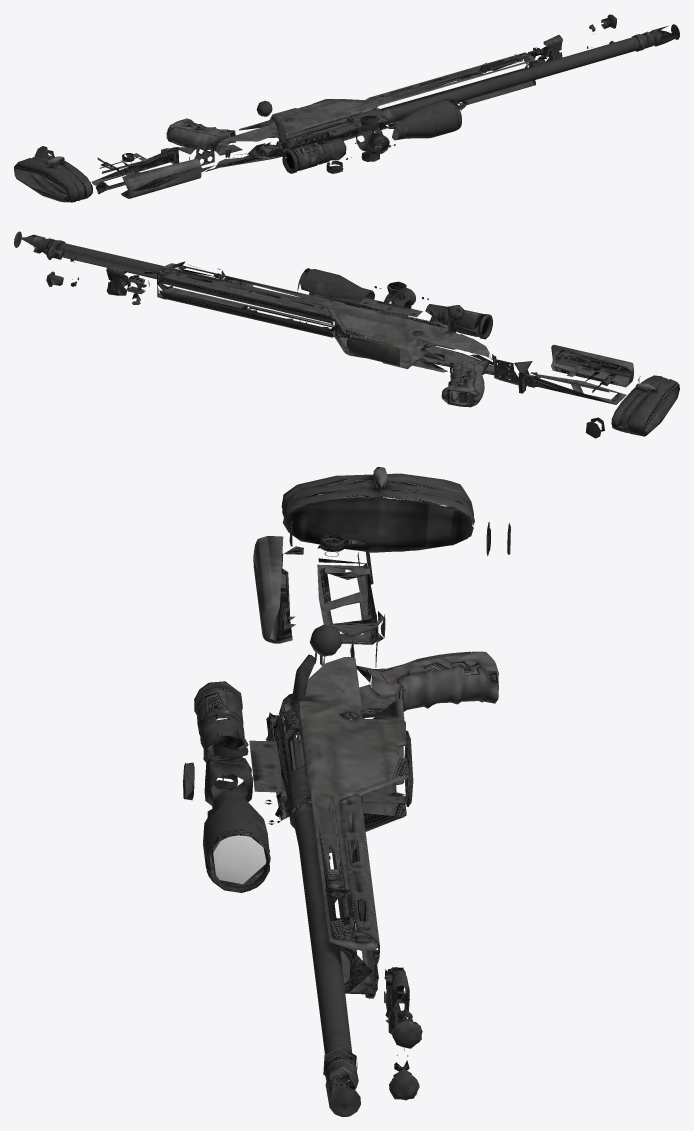
Rendered from p_scout.glb.
3 views of the same model, one above another, from view 1: azimuth 30°, elevation 25°; view 2: azimuth 150°, elevation 25°; view 3: azimuth 270°, elevation 25° (orthographic). The views are drawn at different scales.
Visible parts, largest first — view 1: p_scout; view 2: p_scout; view 3: p_scout.
Boxes of the visible parts, <box> form: p_scout: <box>14,14,679,202</box>; p_scout: <box>14,231,679,438</box>; p_scout: <box>183,467,510,1116</box>.
Size of the model in its own units: 1.76 by 0.1622 by 0.3936.
2 materials, 2 textured.
